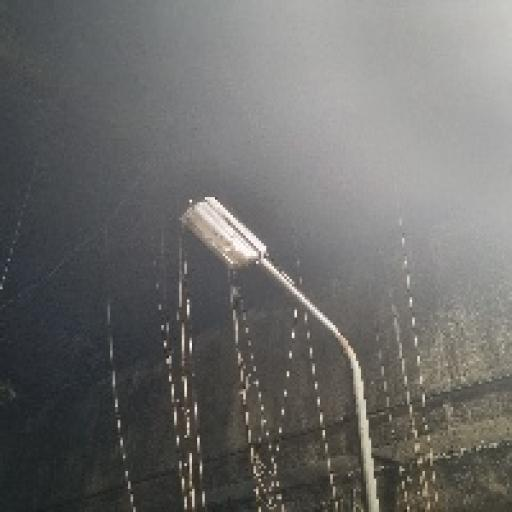Not Working: (166, 182, 284, 284)
